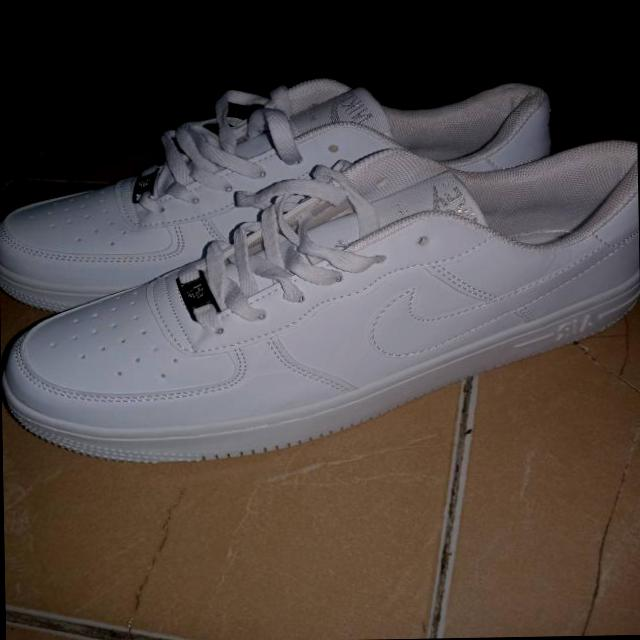nike_fake_airforce: (0, 122, 640, 467), (0, 73, 562, 316)
